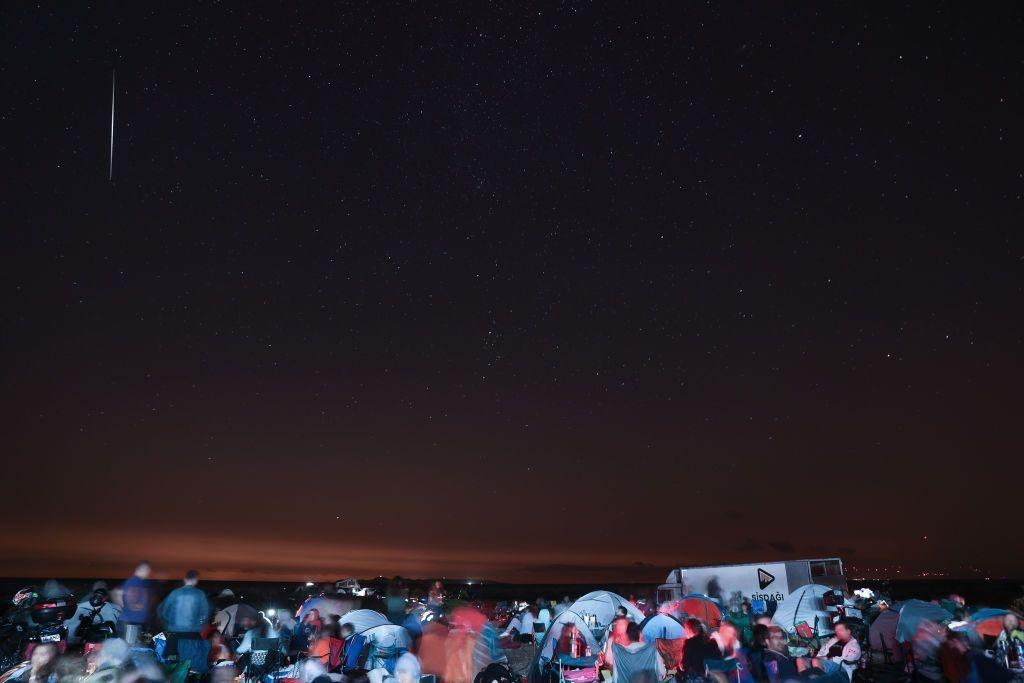meteorite: (94, 60, 129, 196)
